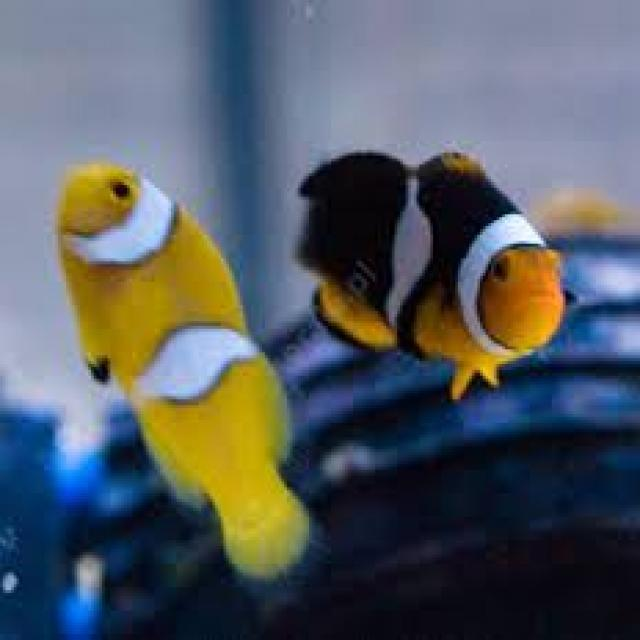ClownFish: (57, 157, 323, 587), (303, 143, 574, 396)
